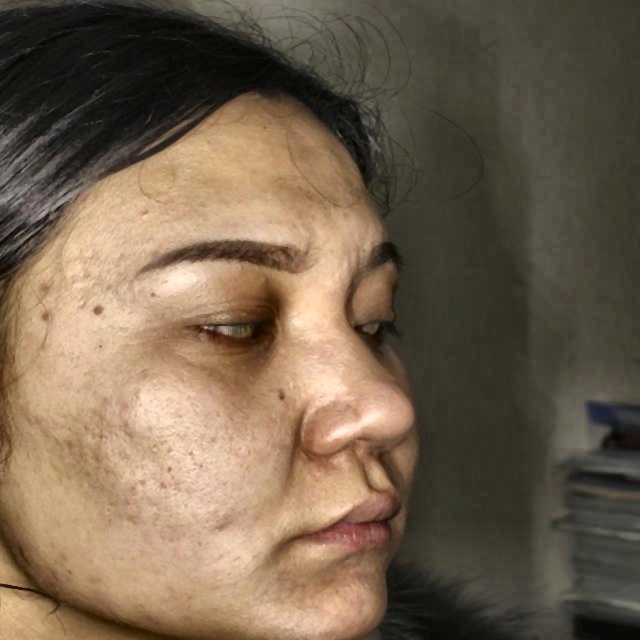comedone: (29, 275, 55, 296), (210, 515, 234, 533)
